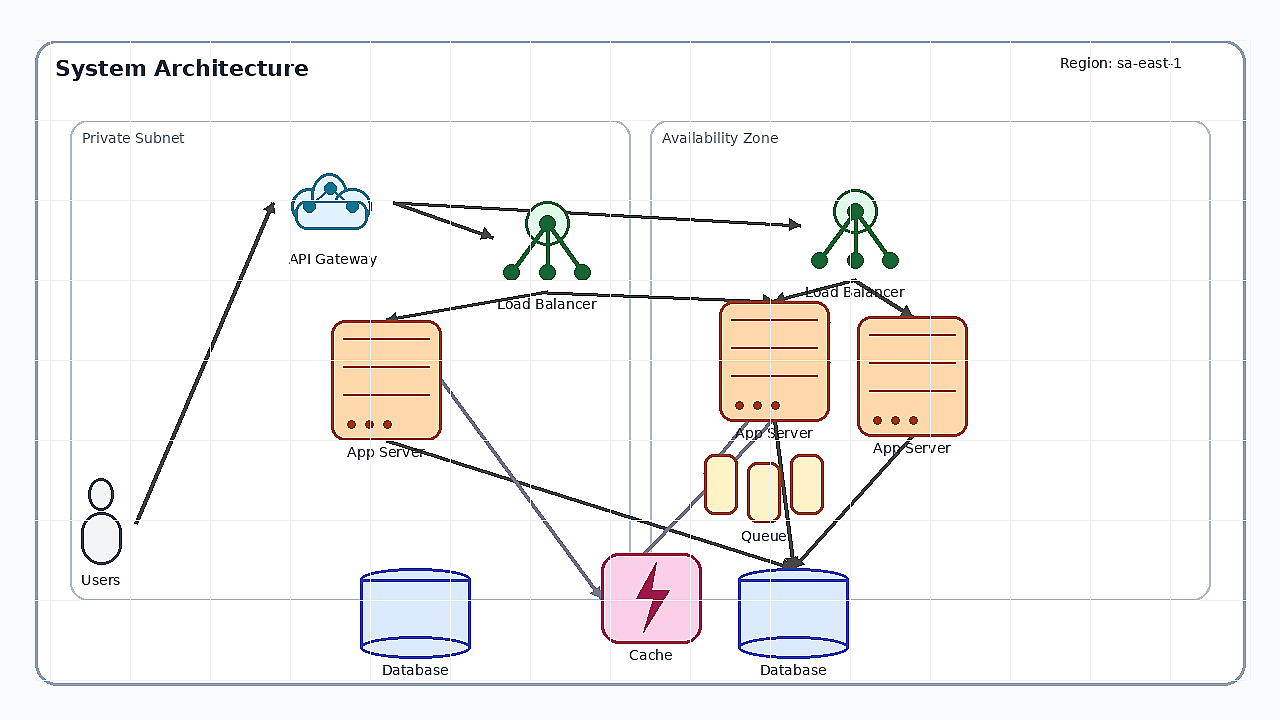API Gateway: (273, 157, 393, 247)
Application Server: (331, 320, 441, 440), (857, 316, 967, 436), (719, 301, 829, 421)
Cache: (601, 553, 701, 643)
Database: (738, 568, 848, 658), (360, 568, 470, 658)
Load Balancer: (492, 182, 602, 292), (800, 170, 910, 280)
Message Queue: (704, 454, 824, 524)
User: (66, 478, 136, 568)
